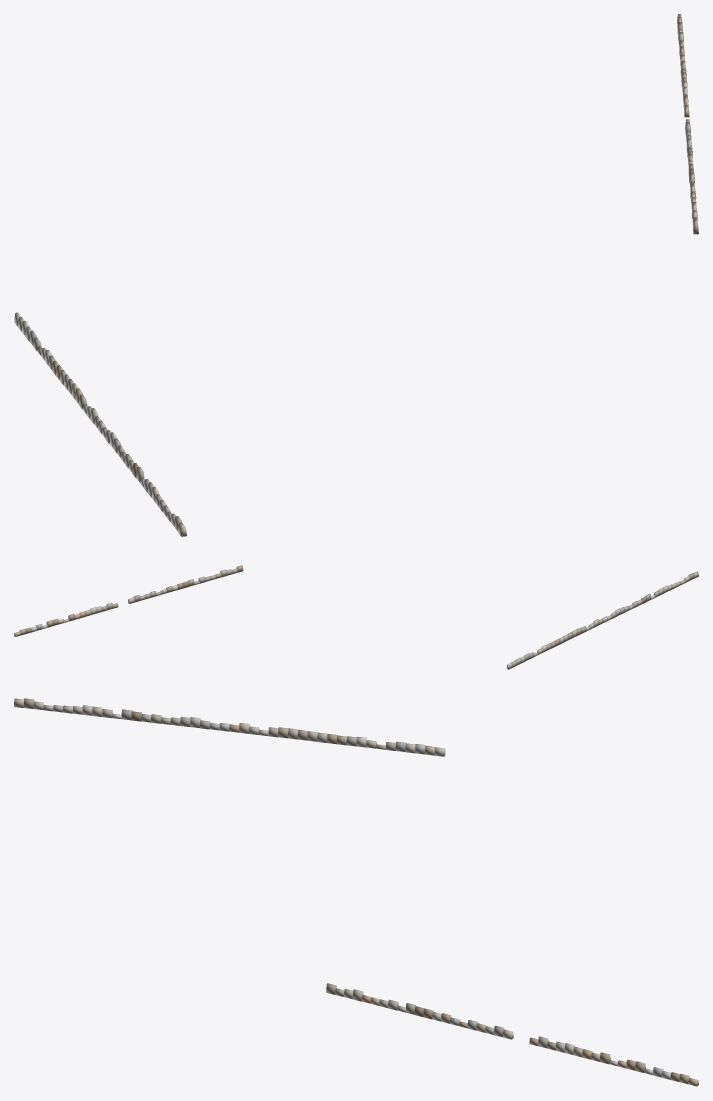
Rendered from farm_4_6_collision.glb.
3 views of the same model, one above another, from view 1: azimuth 30°, elevation 25°; view 2: azimuth 150°, elevation 25°; view 3: azimuth 270°, elevation 25° (orthographic). The views are drawn at different scales.
Parts seen in each view (by area): view 1: geometry_0; view 2: geometry_0; view 3: geometry_0.
Part boxes in pixels (<box>): geometry_0: <box>14,14,698,536</box>; geometry_0: <box>14,565,698,669</box>; geometry_0: <box>14,698,698,1086</box>.
Size of the model in its own units: 135 by 5.49 by 109.
